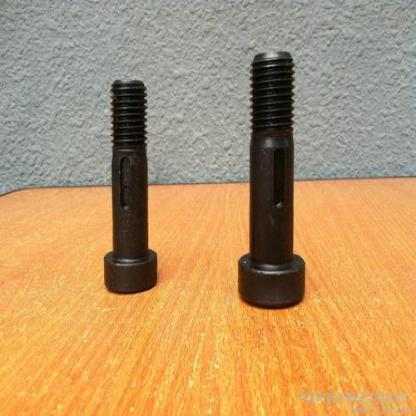FOD: (235, 46, 307, 308), (100, 77, 161, 296)
